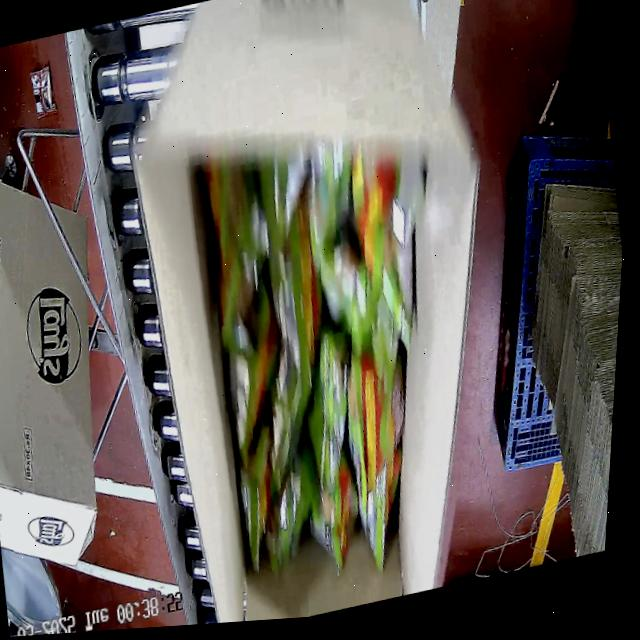YOGURT_HERB: (157, 111, 477, 627)
